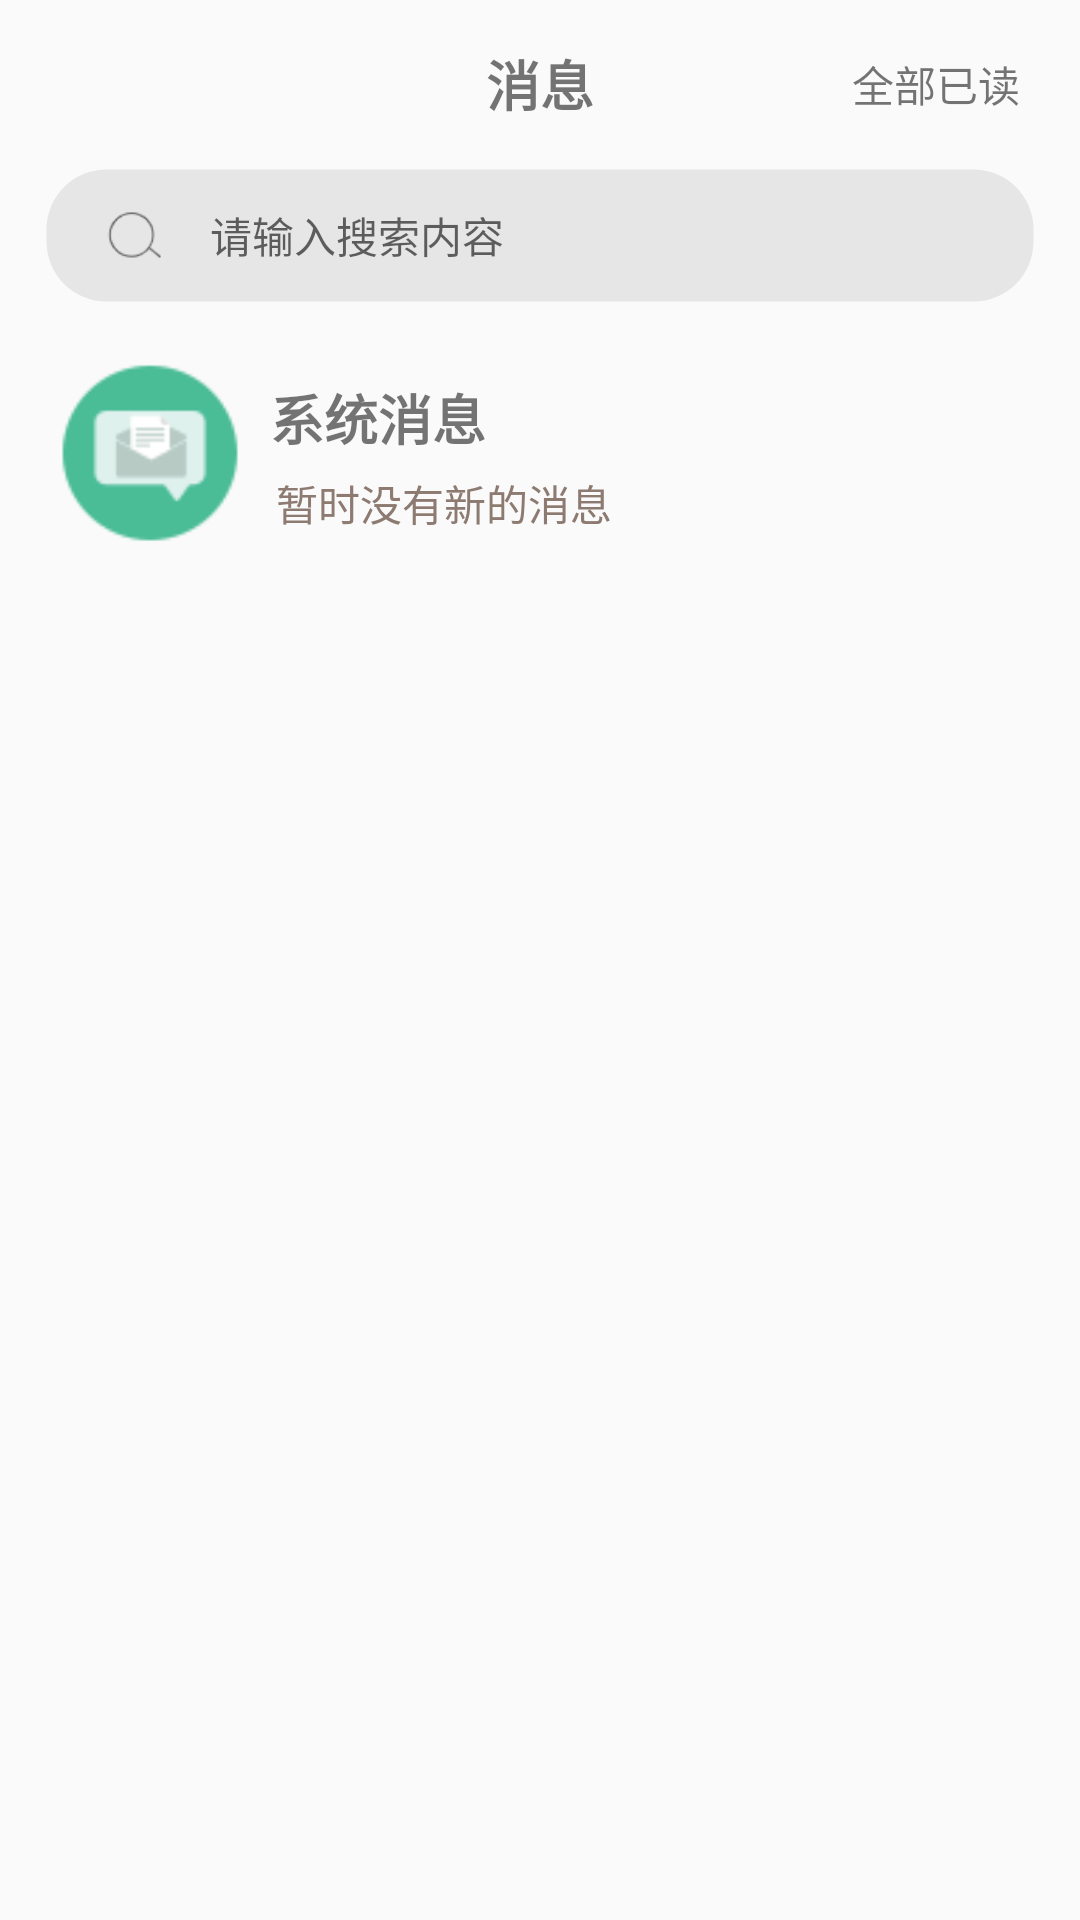

Named icons in this screenshot (1080w x 1920h) and their centers, (x,y):
search: (134,235)
